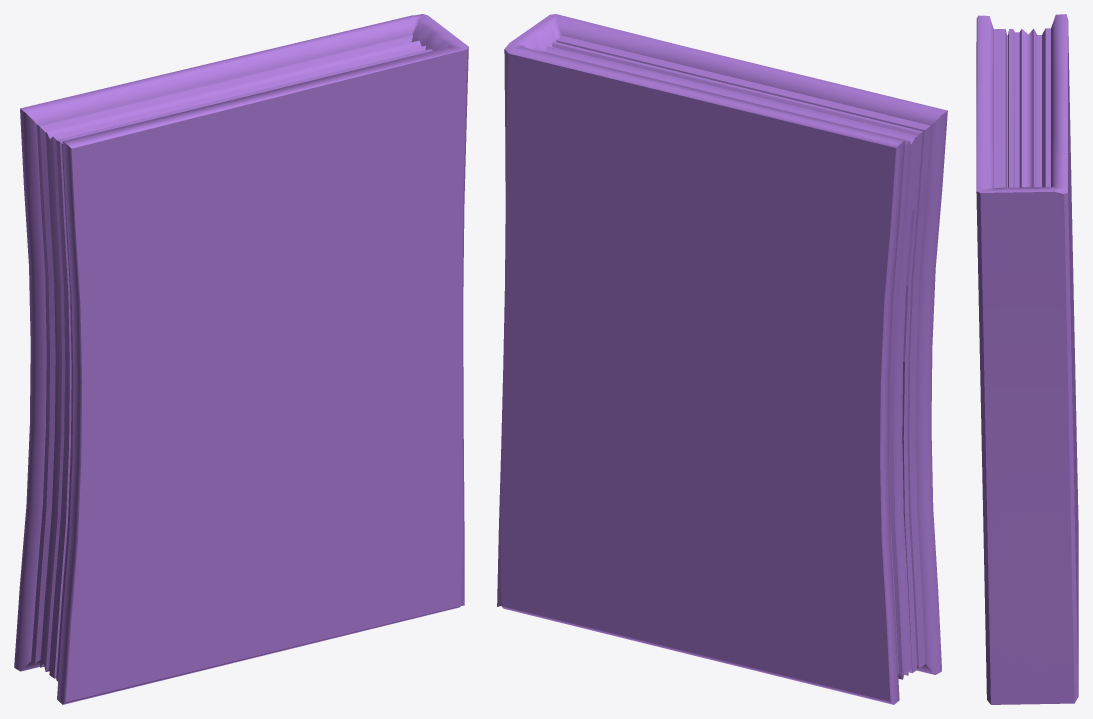
Rendered from Friday_Book.fbx.
3 views of the same model, side by side, from view 1: azimuth 30°, elevation 25°; view 2: azimuth 150°, elevation 25°; view 3: azimuth 270°, elevation 25° (orthographic). The views are drawn at different scales.
Visible parts, largest first — view 1: pCube1; view 2: pCube1; view 3: pCube1.
Part boxes in pixels (x1,y1,x2,y2): pCube1: (14, 14, 468, 704); pCube1: (497, 14, 947, 704); pCube1: (976, 14, 1078, 704).
Bounding box in the file's own units: 21.62 × 28.96 × 5.23.
